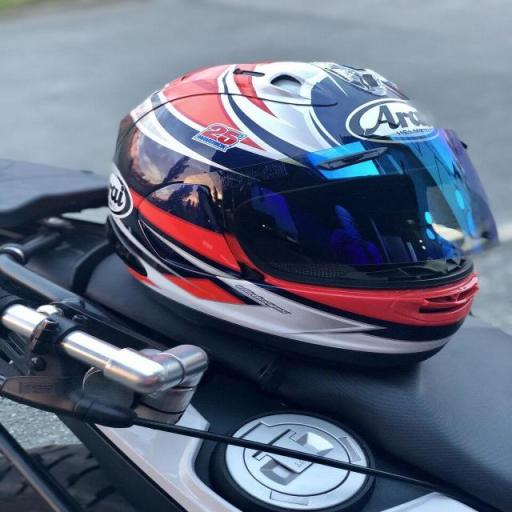Helmet: (109, 63, 496, 363)
